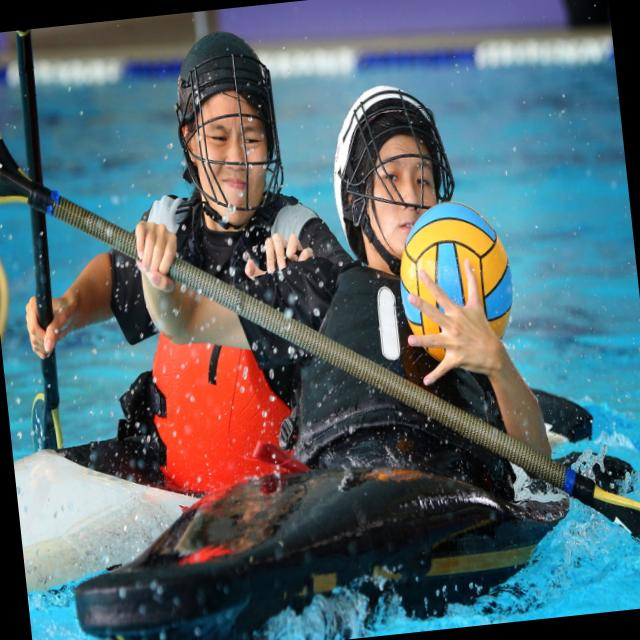Ball: (392, 196, 519, 365)
